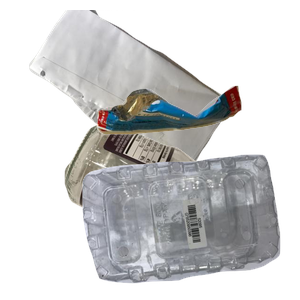glass: (62, 120, 300, 300)
paper: (27, 10, 252, 187)
plastic: (80, 152, 300, 300)
trash: (94, 83, 300, 210)
